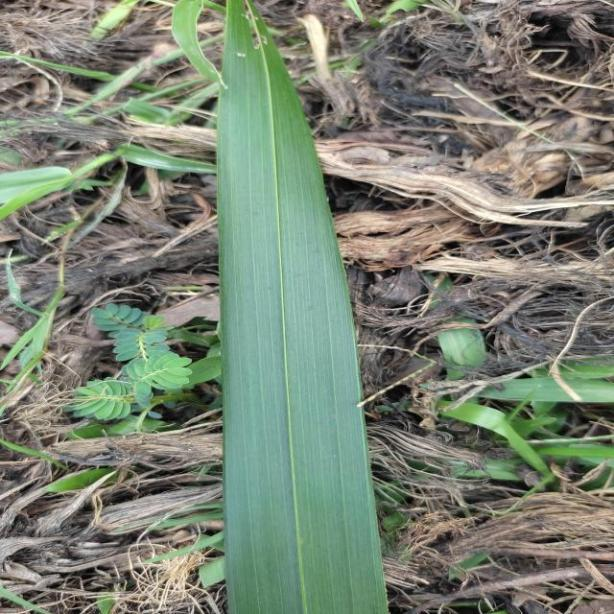Boron: (214, 0, 395, 614)
